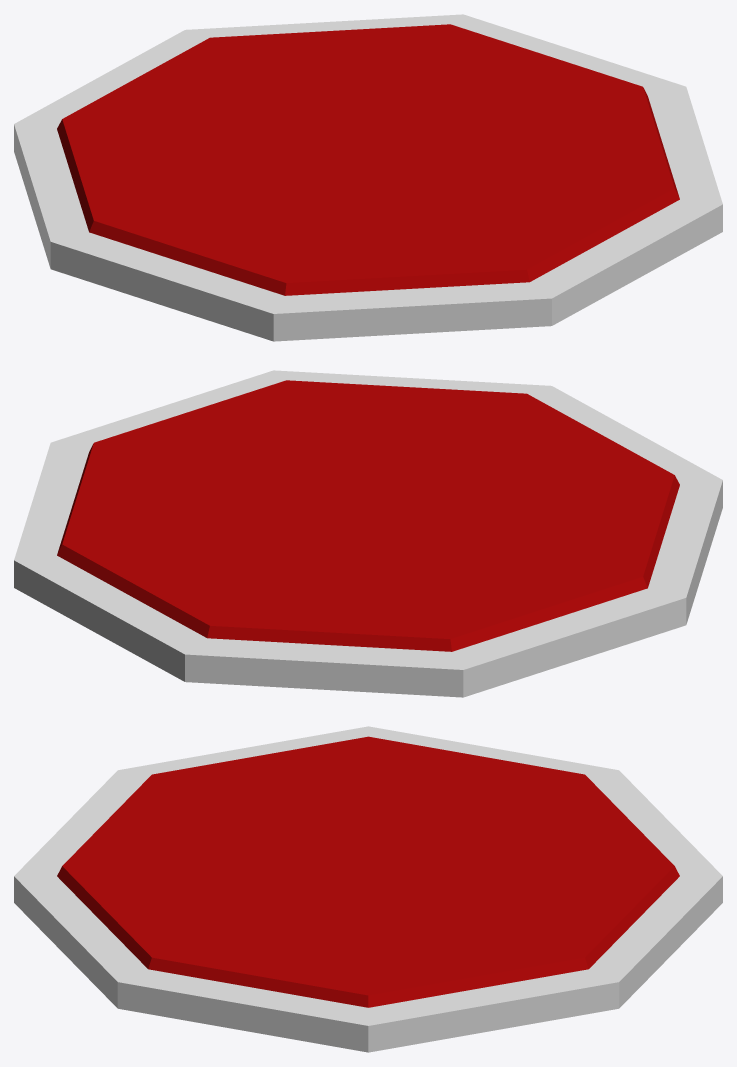
Rendered from NodeOn.fbx.
The picture shows the model from 3 angles, top to bottom: view 1: azimuth 30°, elevation 25°; view 2: azimuth 150°, elevation 25°; view 3: azimuth 270°, elevation 25°; orthographic projection. The views are drawn at different scales.
Parts seen in each view (by area): view 1: Cylinder.002, Cylinder; view 2: Cylinder.002, Cylinder; view 3: Cylinder.002, Cylinder.
Boxes of the visible parts, box(x1,y1,x2,y2) form: Cylinder.002: box(57, 24, 679, 295); Cylinder: box(14, 14, 722, 341); Cylinder.002: box(57, 380, 679, 651); Cylinder: box(14, 370, 722, 697); Cylinder.002: box(57, 736, 679, 1007); Cylinder: box(14, 726, 722, 1052).
Bounding box in the file's own units: 1834 × 105 × 1834.
